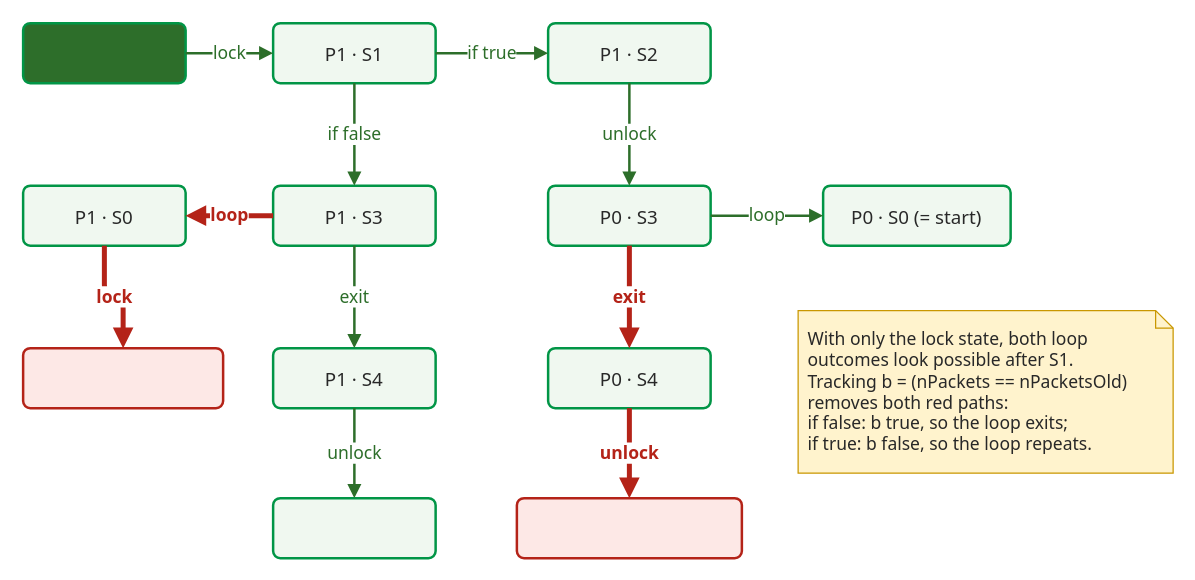
The diagram is 1195 pixels wide and 580 high, and some of its shapes have lost their labels. The centre of each missing label's shape, as x and y in pixels:
"error: double lock" belongs at point (122, 377).
"error: double unlock" belongs at point (628, 527).
"P0 · end" belongs at point (353, 527).
"start: P0 · S0" belongs at point (103, 52).
